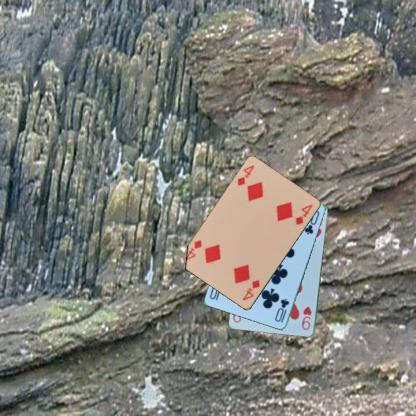10c: (272, 296, 291, 324)
4d: (233, 162, 256, 188), (240, 278, 262, 302)
9h: (299, 303, 313, 330)
